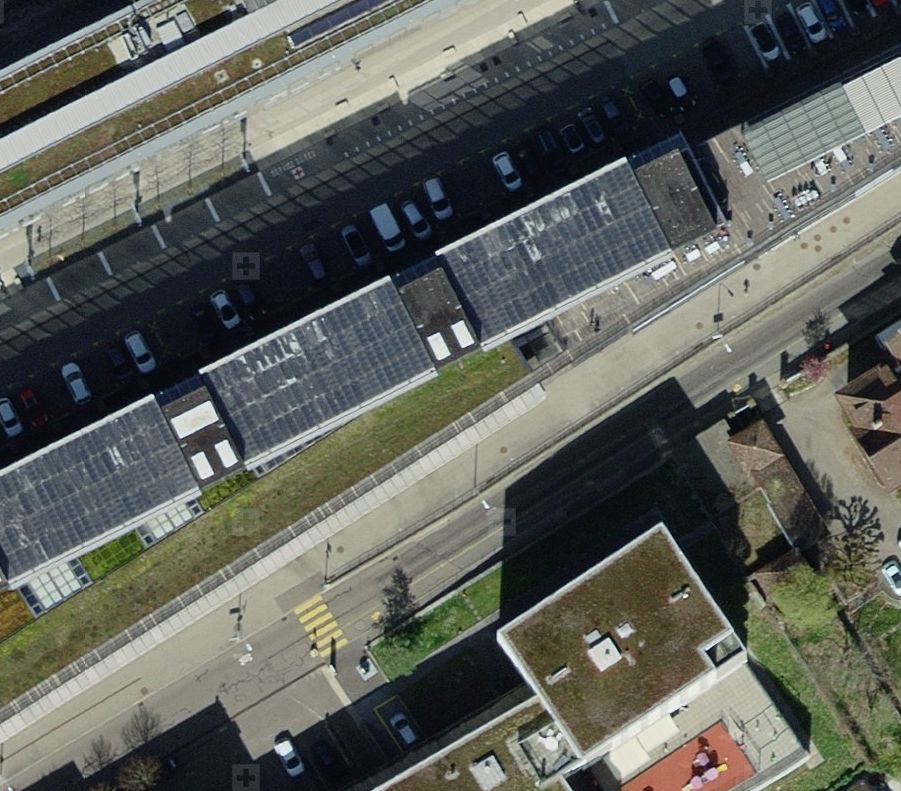solar: (274, 1, 387, 59)
